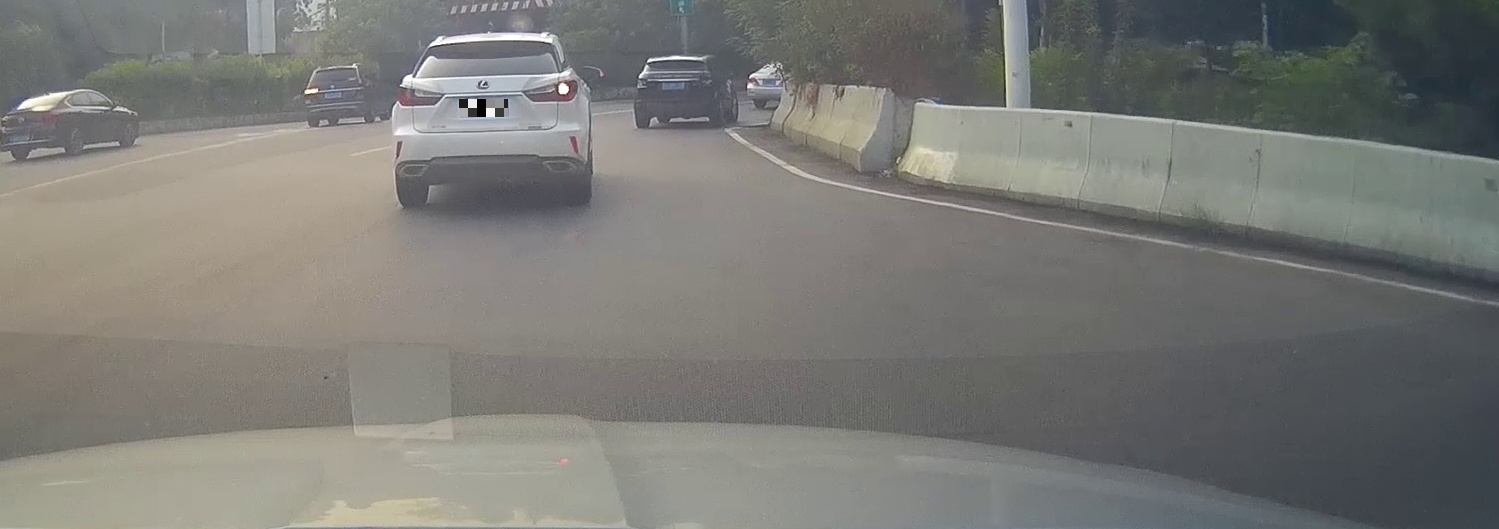L_light: (397, 85, 445, 107), (636, 79, 649, 89), (305, 88, 318, 95)
R_light: (523, 79, 578, 102), (699, 77, 712, 86), (351, 83, 363, 88)
T_light: (475, 40, 498, 45), (670, 60, 682, 63), (329, 68, 339, 71)
day-left: (304, 65, 365, 128)
day-no: (634, 55, 712, 128)
day-right: (392, 32, 591, 208)
plate_1: (459, 99, 508, 117)
